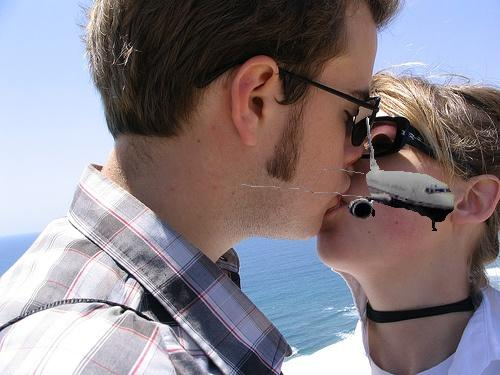tampered: (242, 118, 454, 231)
